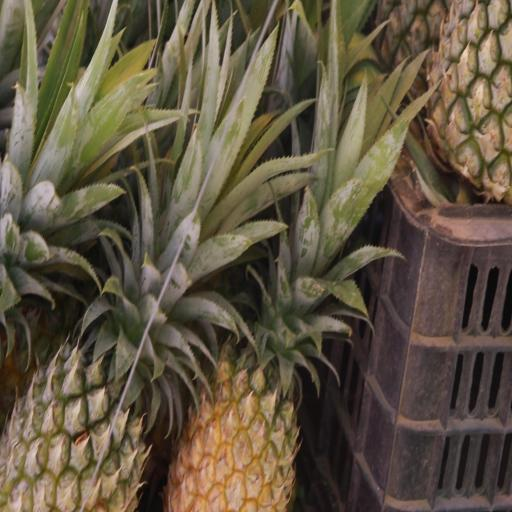Pineapple - v8 v1: (163, 299, 306, 512)
